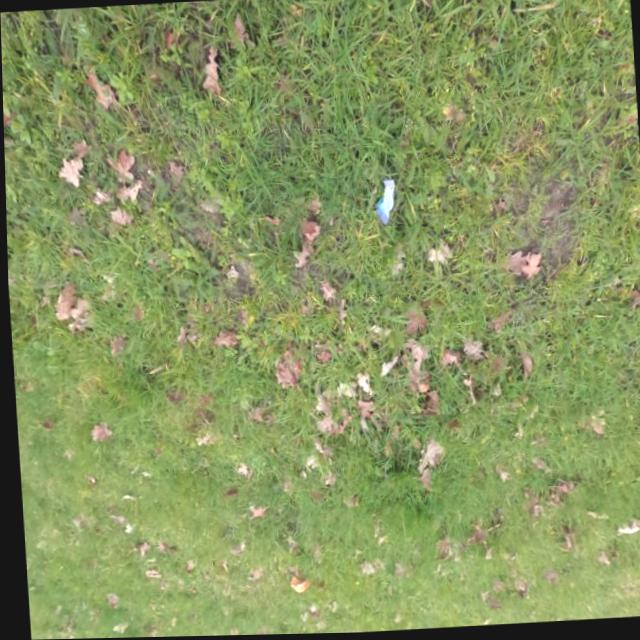Plastic: (368, 176, 395, 227)
